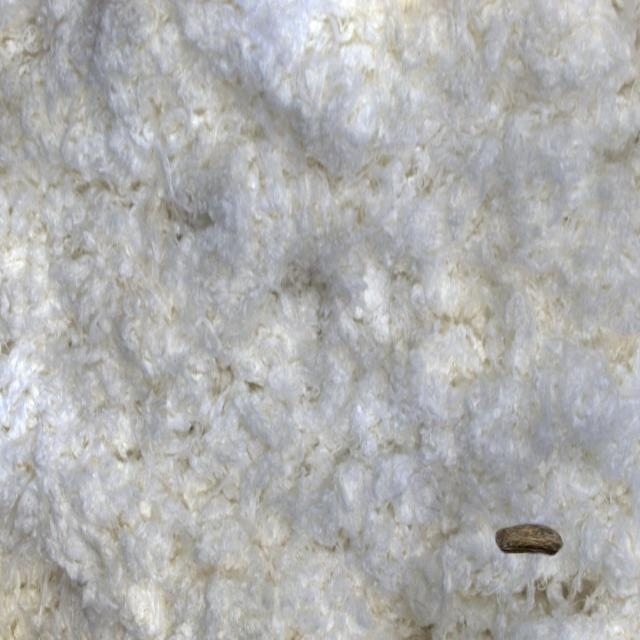dust: (468, 468, 586, 623)
